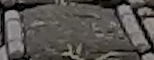bag: (4, 5, 147, 60)
